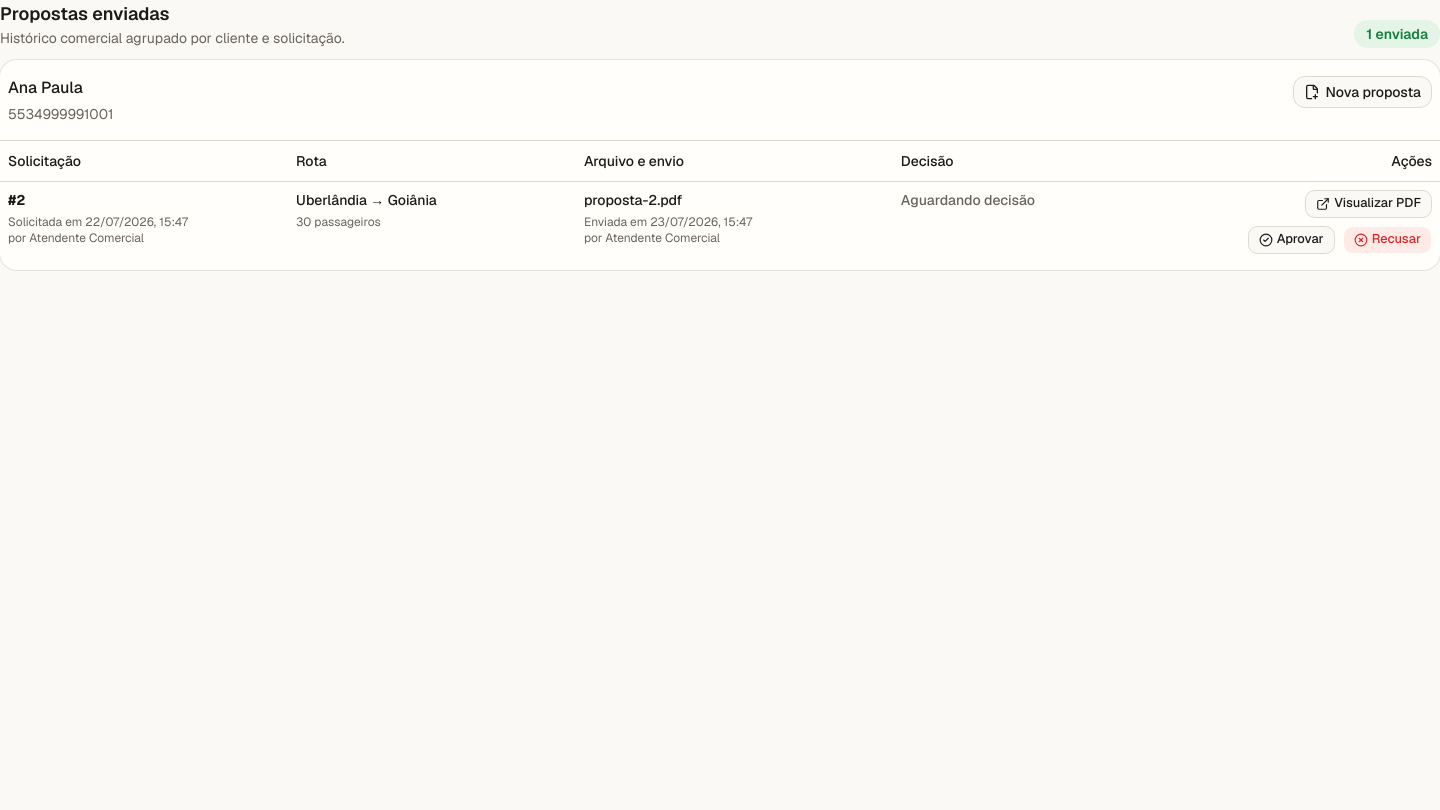
Test: ProposalHistory › opens a modal with every PDF linked to the selected request
Click the button "Visualizar PDF" at (1369, 204), box [1305,190,1432,218]
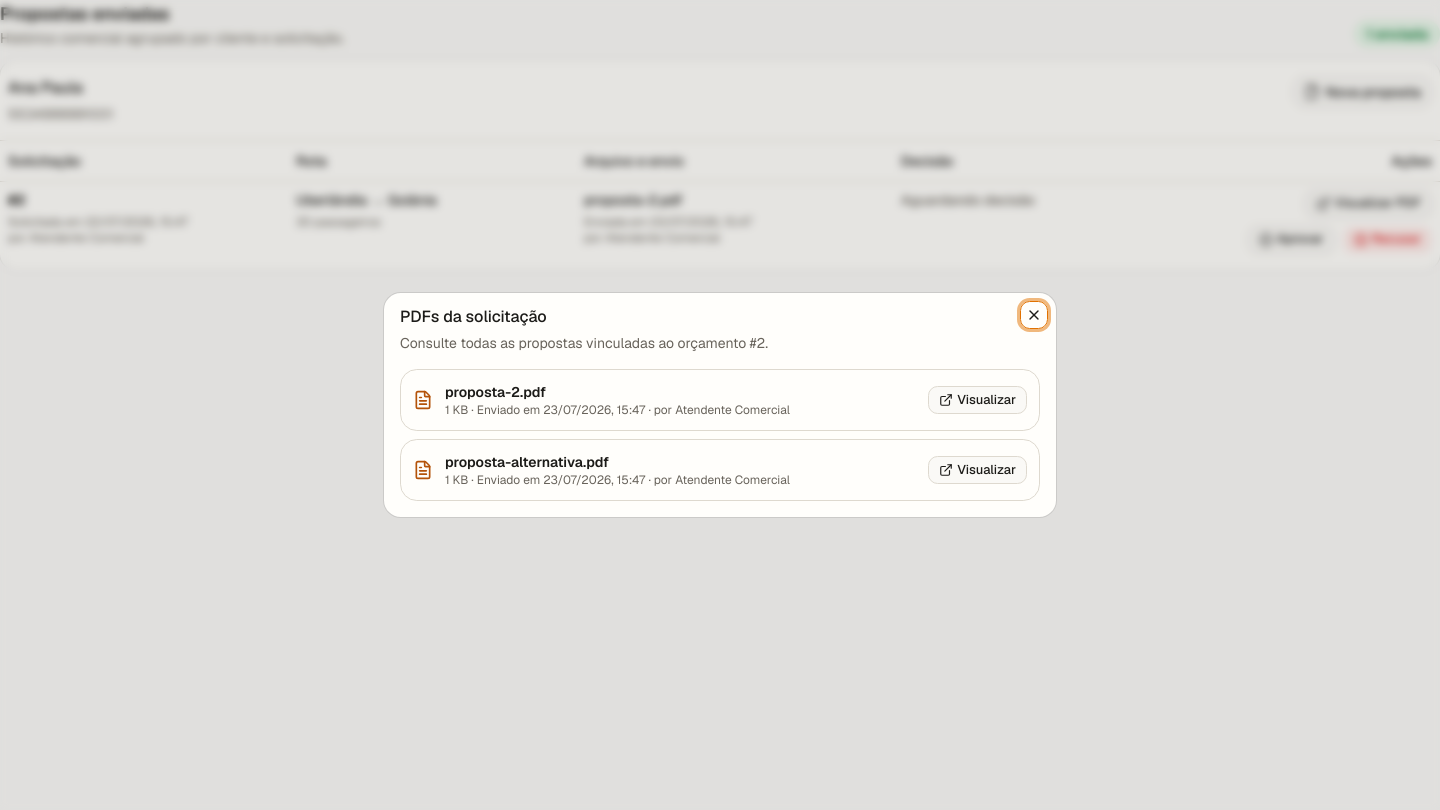
Expected: the text "proposta-2.pdf" is shown, [445,383,546,401]
Expected: the text "proposta-alternativa.pdf" is shown, [445,453,609,471]
Expected: the number of buttons "Visualizar" is 2, [928,386,1027,414]; [928,456,1027,484]
